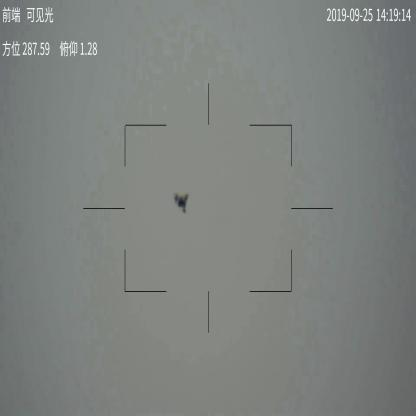uav: (173, 192, 189, 212)
